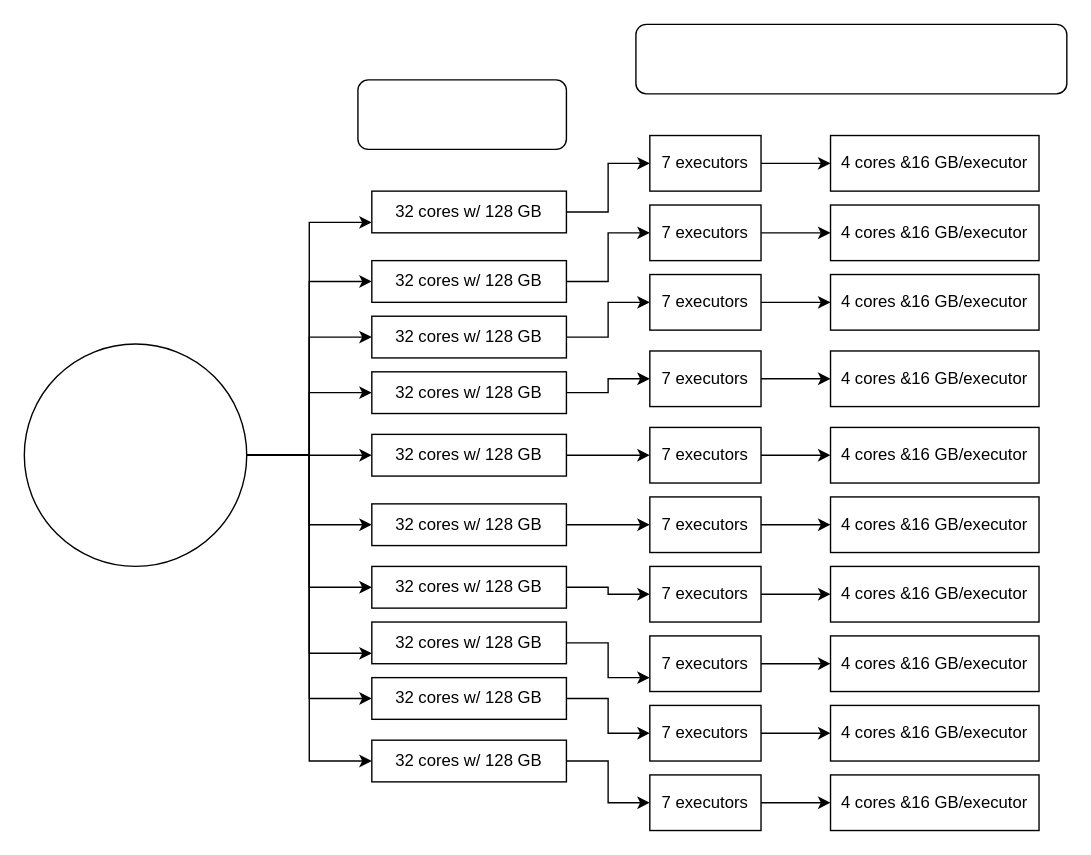
The diagram is 1091 pixels wide and 855 high, and some of its shapes have lost their labels. The shapes that lost their labels are listed below. From the top down, each one's centre as x and y in pixels, then its label:
At (851,58): "Executors per node | executor cores & memory".
At (461,114): "10 worker nodes for m5.8xlarge".
At (135,454): "320 cores total (vCPUs)".
